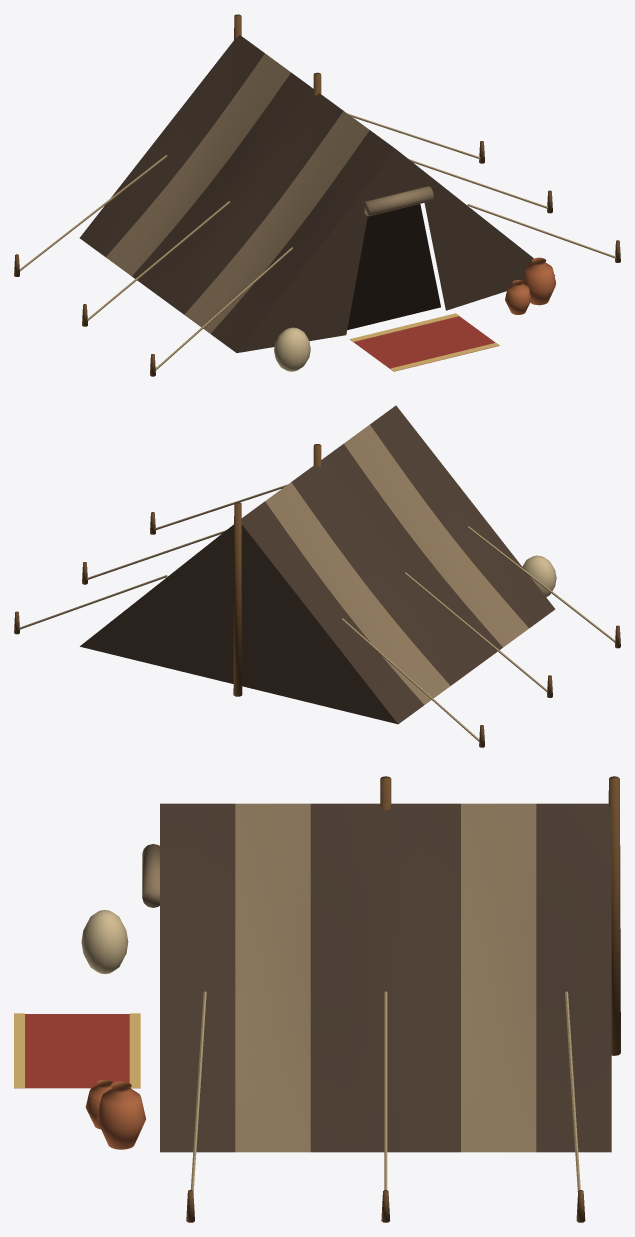
Rendered from home.glb.
3 renders of one model, top to bottom at view 1: azimuth 30°, elevation 25°; view 2: azimuth 150°, elevation 25°; view 3: azimuth 270°, elevation 25°, orthographic. The views are drawn at different scales.
Visible parts, largest first — view 1: home_tent; view 2: home_tent; view 3: home_tent.
Boxes of the visible parts, <box> form: home_tent: <box>14,14,620,376</box>; home_tent: <box>14,405,620,747</box>; home_tent: <box>14,776,620,1222</box>.
Bounding box in the file's own units: 14.14 × 5.61 × 11.02.
